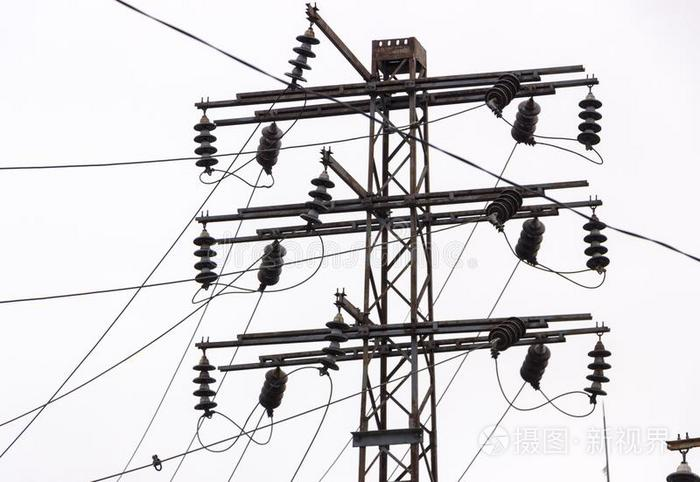insulator: (318, 317, 352, 370), (284, 34, 318, 81), (300, 178, 334, 225), (193, 117, 223, 170), (581, 222, 613, 266), (584, 350, 615, 395), (485, 189, 526, 222), (192, 360, 217, 414), (510, 99, 541, 142), (192, 233, 218, 284), (576, 96, 602, 147), (514, 218, 545, 260), (490, 314, 523, 351), (521, 345, 552, 384), (258, 243, 286, 286), (488, 74, 519, 111), (256, 126, 283, 168), (259, 368, 286, 410)
